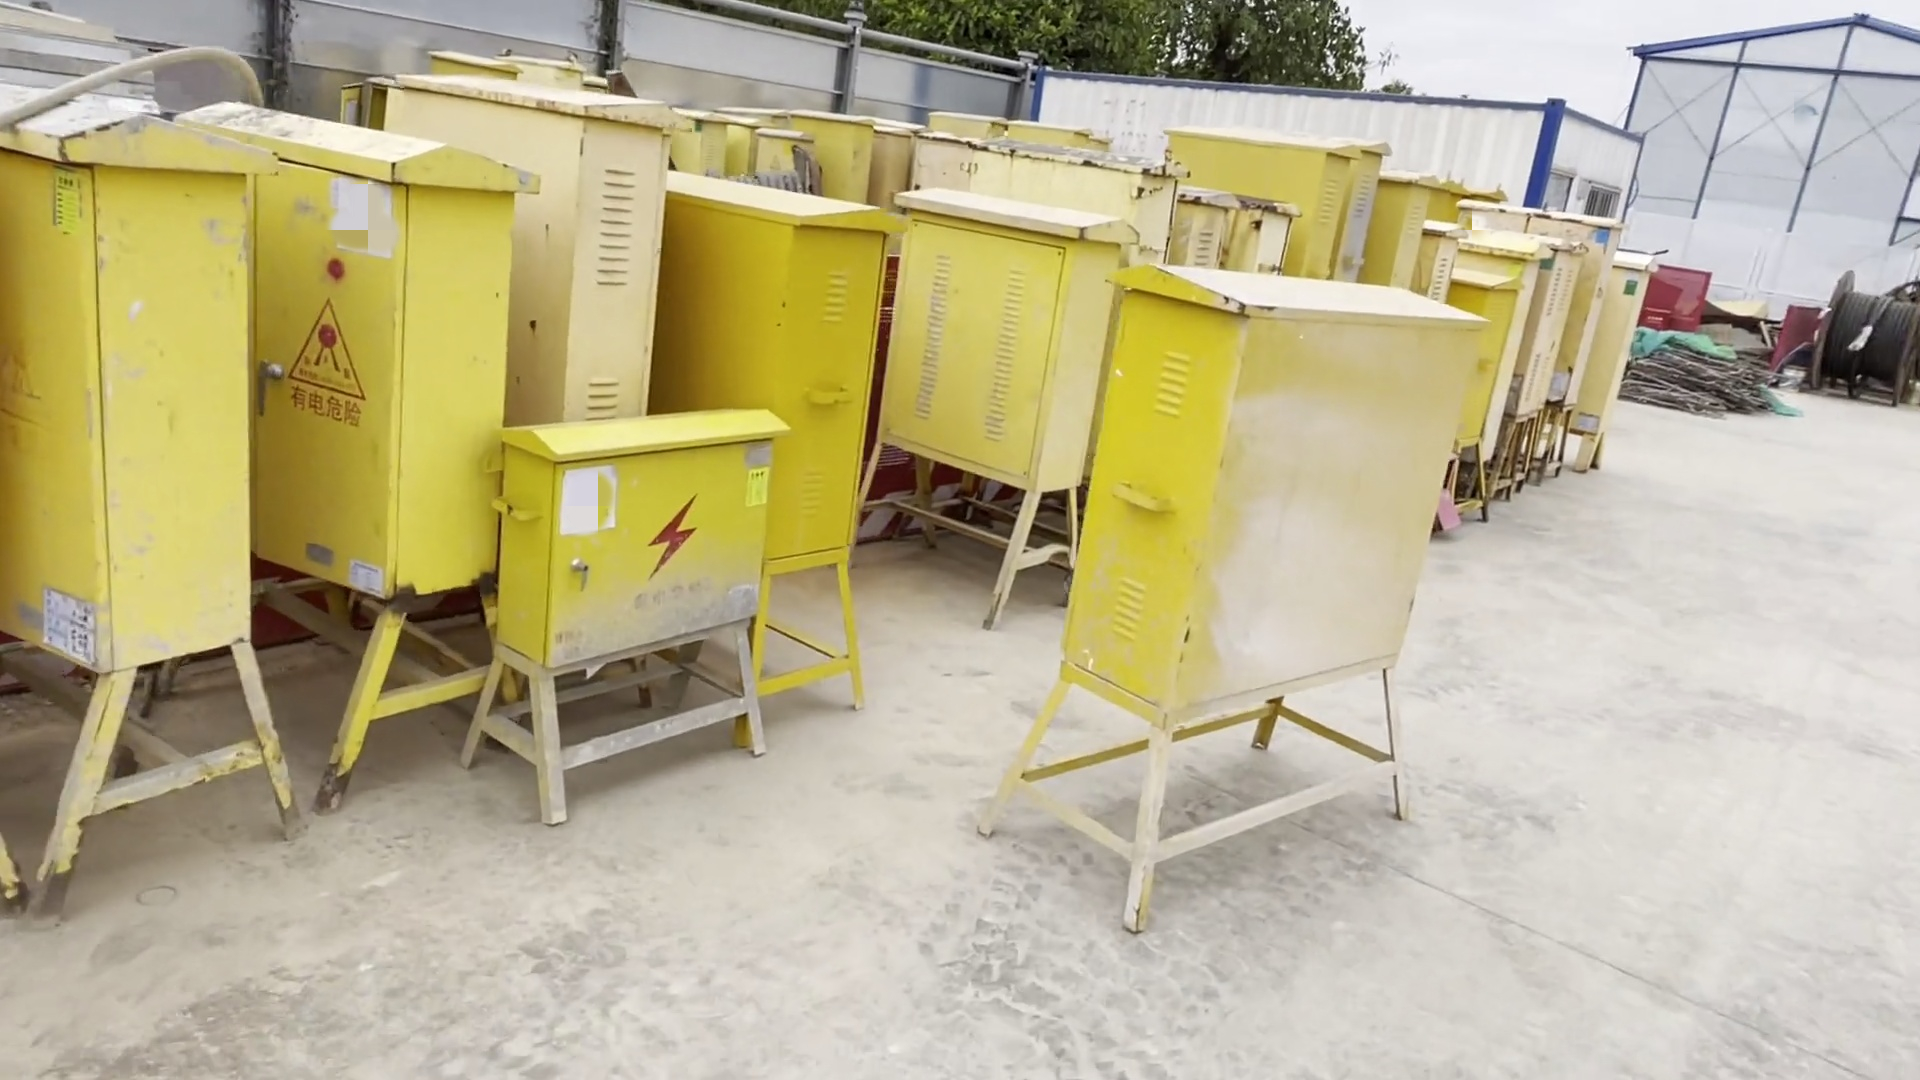ebox: (1, 133, 386, 918), (1019, 258, 1441, 931), (276, 98, 524, 822), (465, 392, 800, 831), (669, 165, 872, 716), (375, 79, 678, 446), (876, 182, 1079, 622), (1174, 116, 1344, 282)
